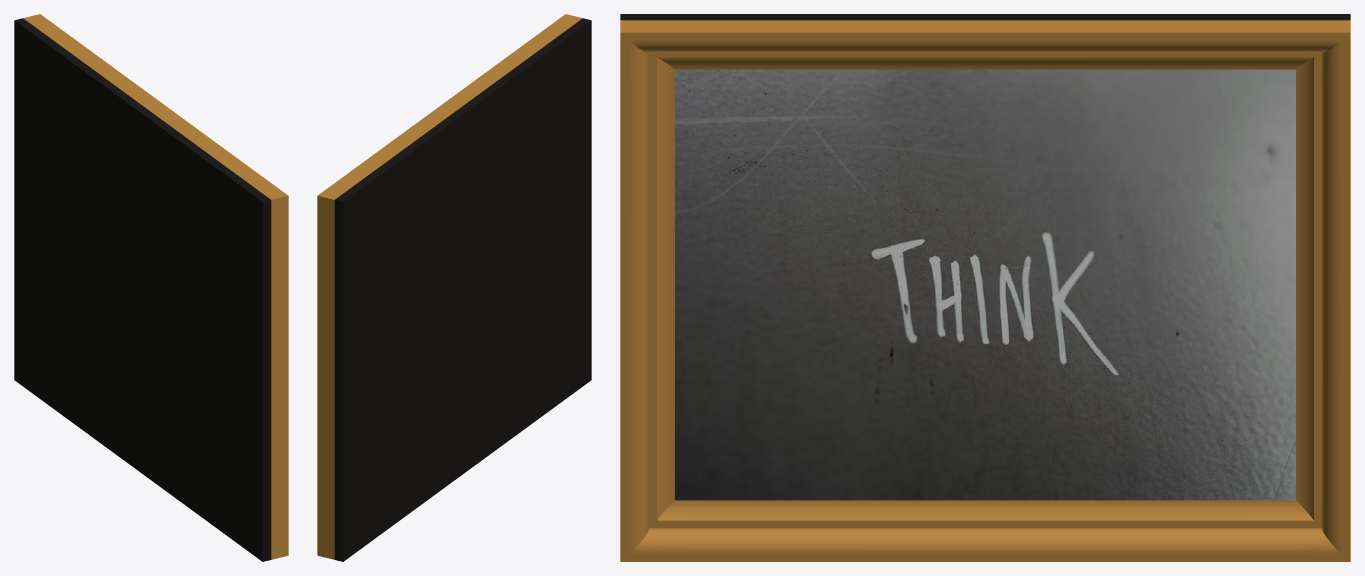
3 views of the same model, side by side, from view 1: azimuth 30°, elevation 25°; view 2: azimuth 150°, elevation 25°; view 3: azimuth 270°, elevation 25° (orthographic). The views are drawn at different scales.
Parts seen in each view (by area): view 1: frame.001_3, back panel.001_2; view 2: frame.001_3, back panel.001_2; view 3: frame.001_3, back panel.001_2.
Boxes of the visible parts, <box> form: frame.001_3: <box>14,18,271,561</box>; back panel.001_2: <box>23,14,288,559</box>; frame.001_3: <box>334,18,591,561</box>; back panel.001_2: <box>317,14,582,559</box>; frame.001_3: <box>620,14,1350,500</box>; back panel.001_2: <box>620,20,1350,561</box>.
Size of the model in its own units: 0.75 by 10 by 12.5.
3 materials, 1 textured.
